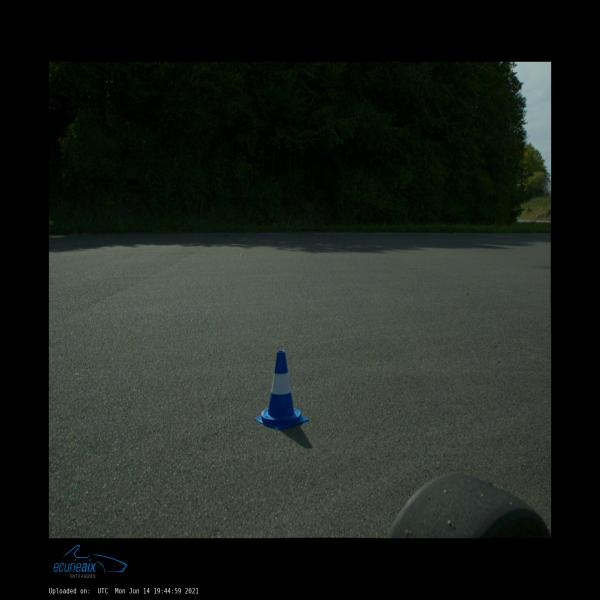blue_cone: (255, 351, 308, 429)
